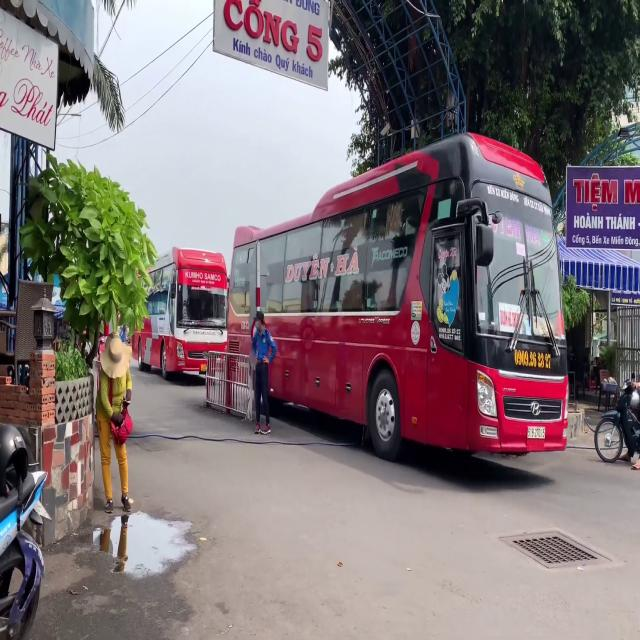bien_trang: (526, 426, 545, 439)
